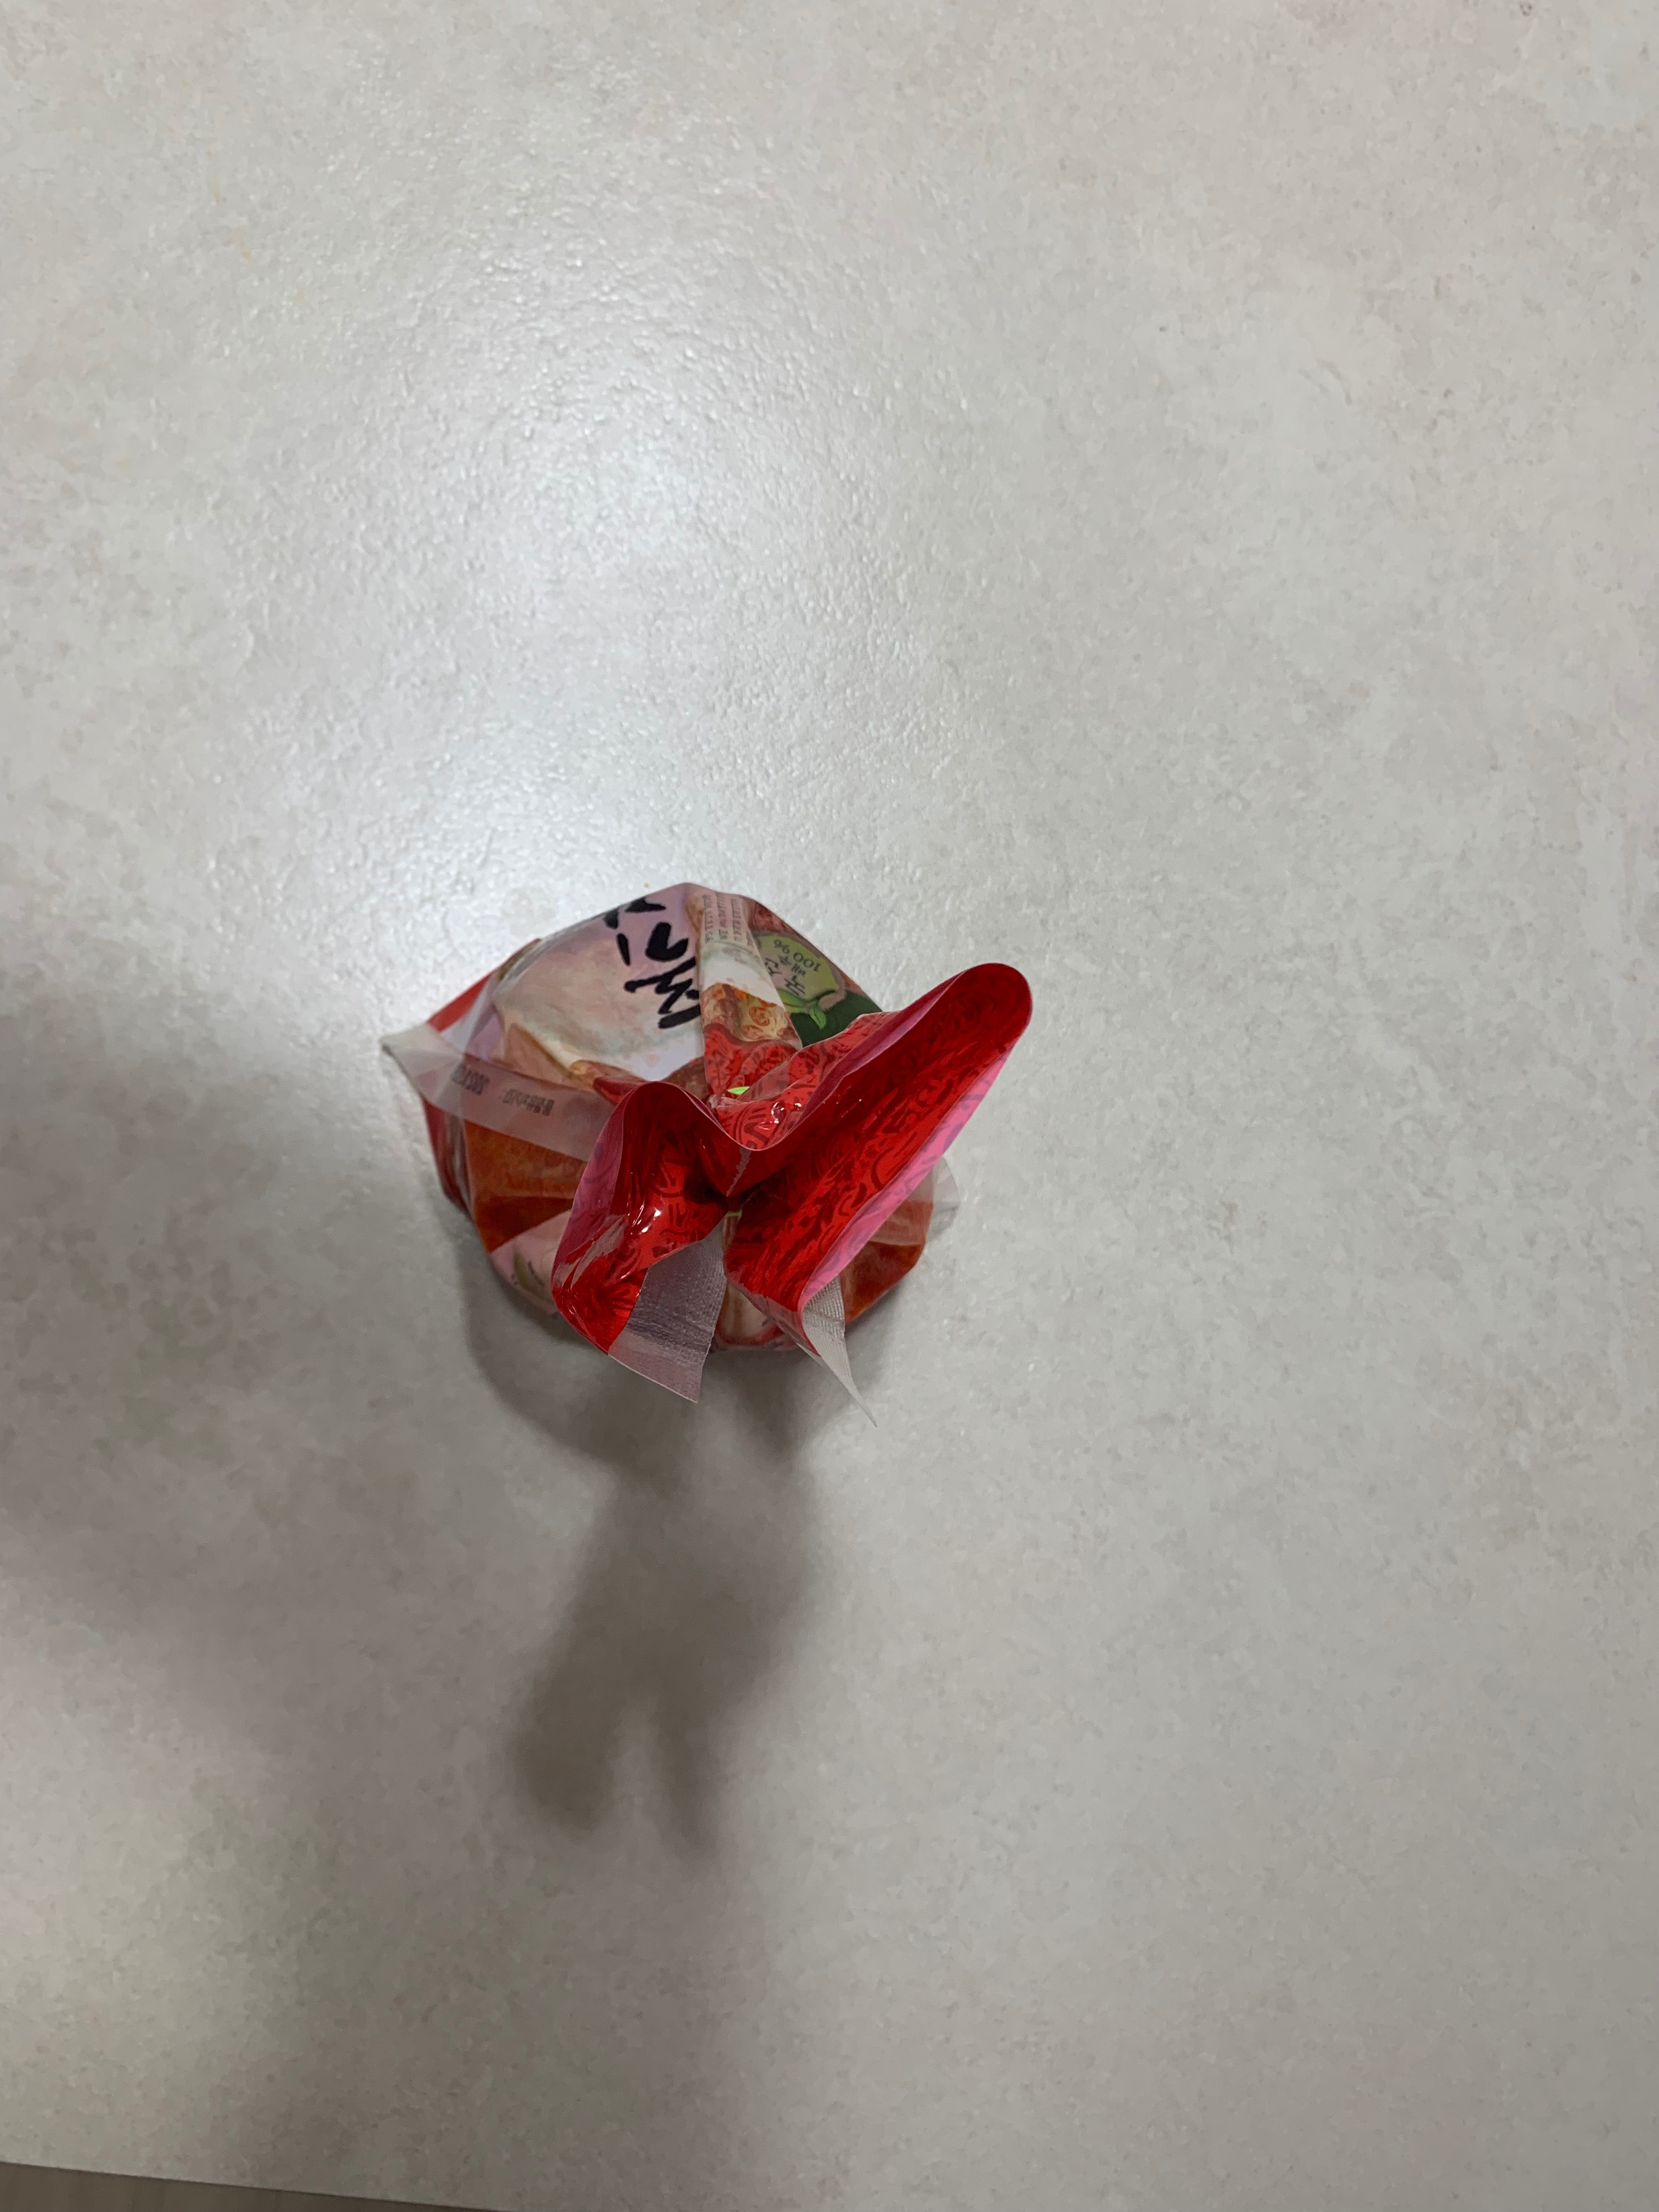kimchi: (408, 881, 1040, 1392)
